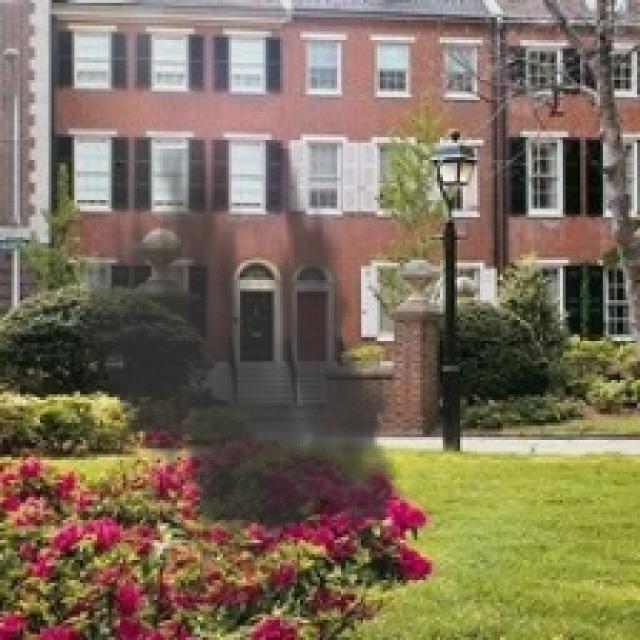smoke: (66, 148, 414, 566)
